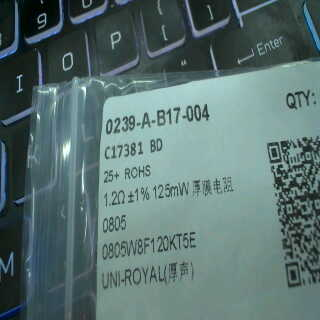1.2R: (101, 189, 129, 235)
